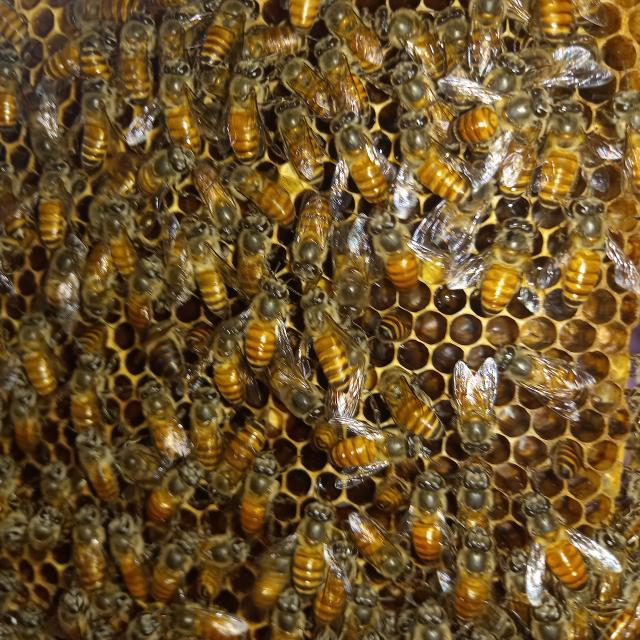honeybee: (521, 492, 609, 613), (545, 201, 636, 315), (355, 210, 447, 305), (139, 52, 218, 162), (465, 208, 545, 312), (397, 114, 472, 216), (497, 343, 601, 415), (230, 269, 296, 381), (325, 110, 392, 218), (330, 413, 428, 485), (494, 32, 608, 90), (439, 521, 507, 617), (106, 5, 170, 106), (344, 514, 425, 592), (541, 103, 604, 202), (442, 83, 545, 143), (308, 29, 374, 120), (324, 0, 393, 86), (306, 296, 362, 398), (490, 116, 550, 210), (18, 173, 85, 256), (290, 192, 344, 292), (276, 58, 342, 138), (334, 208, 385, 309), (226, 58, 271, 170), (376, 374, 446, 445), (403, 474, 457, 566), (269, 96, 324, 185), (286, 498, 338, 590), (165, 238, 225, 316), (394, 59, 446, 145), (180, 165, 243, 234), (230, 165, 307, 221), (26, 67, 70, 165), (454, 363, 500, 456), (391, 9, 444, 89), (464, 0, 515, 82), (141, 385, 193, 464), (450, 467, 498, 551), (182, 379, 221, 481), (254, 532, 306, 608), (228, 210, 276, 292), (66, 354, 111, 441), (195, 532, 252, 600), (108, 512, 152, 596), (46, 246, 92, 325), (527, 590, 596, 640), (132, 142, 198, 194), (214, 419, 260, 493), (198, 0, 251, 64), (44, 27, 97, 91), (238, 453, 280, 531), (74, 436, 116, 513), (71, 14, 117, 84), (97, 203, 144, 271), (214, 330, 256, 405), (74, 88, 109, 175), (14, 311, 50, 395), (272, 370, 321, 431), (436, 0, 478, 71), (73, 512, 112, 586), (323, 540, 355, 630), (55, 585, 105, 640), (157, 535, 196, 604), (346, 587, 395, 640), (123, 267, 162, 333), (160, 6, 197, 75), (8, 390, 48, 453), (152, 461, 192, 522), (251, 23, 306, 66), (82, 254, 118, 316), (618, 96, 640, 196), (604, 579, 640, 640), (110, 448, 156, 494), (30, 501, 67, 558), (99, 156, 138, 210), (531, 0, 573, 47), (266, 591, 304, 640), (0, 56, 24, 133), (98, 593, 136, 640), (366, 479, 415, 514), (414, 599, 454, 640), (278, 0, 318, 38), (156, 615, 213, 640), (0, 203, 32, 243), (0, 0, 27, 47), (549, 438, 580, 478), (0, 514, 30, 553), (473, 622, 535, 640), (379, 307, 410, 343), (102, 0, 178, 14), (310, 419, 340, 452), (127, 602, 153, 640), (153, 340, 180, 376), (190, 312, 212, 355)
